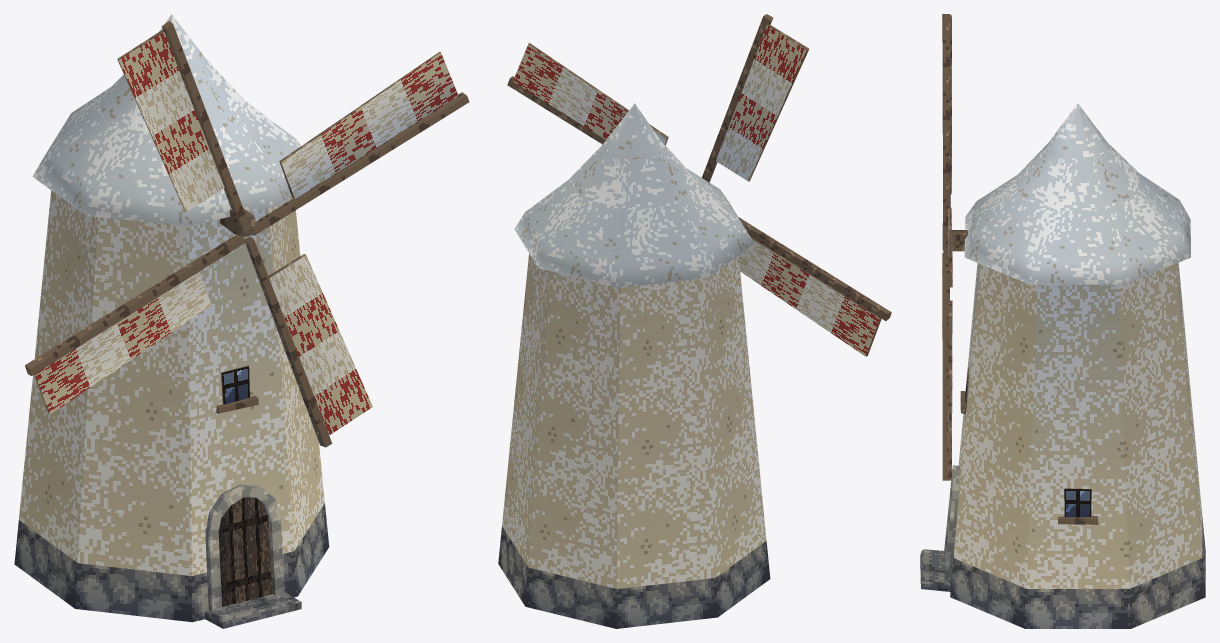
File: vlg.mill.glb
3 views of the same model, side by side, from view 1: azimuth 30°, elevation 25°; view 2: azimuth 150°, elevation 25°; view 3: azimuth 270°, elevation 25° (orthographic). The views are drawn at different scales.
Visible parts, largest first — view 1: kit_walls, kit_fittings, kit_roof, kit_frame; view 2: kit_walls, kit_roof, kit_fittings, kit_frame; view 3: kit_walls, kit_roof, kit_fittings, kit_frame.
Boxes of the visible parts, <box> form: kit_walls: <box>14,190,329,622</box>; kit_fittings: <box>34,30,458,628</box>; kit_roof: <box>32,14,300,225</box>; kit_frame: <box>25,20,469,447</box>; kit_walls: <box>498,253,770,628</box>; kit_roof: <box>514,103,754,288</box>; kit_fittings: <box>513,24,881,356</box>; kit_frame: <box>507,14,891,320</box>; kit_walls: <box>950,262,1205,628</box>; kit_roof: <box>964,103,1190,285</box>; kit_fittings: <box>920,15,1098,591</box>; kit_frame: <box>942,14,967,480</box>.
Size of the model in its own units: 8.33 by 10.99 by 5.37.
Materials: 9 (9 with a texture image).
